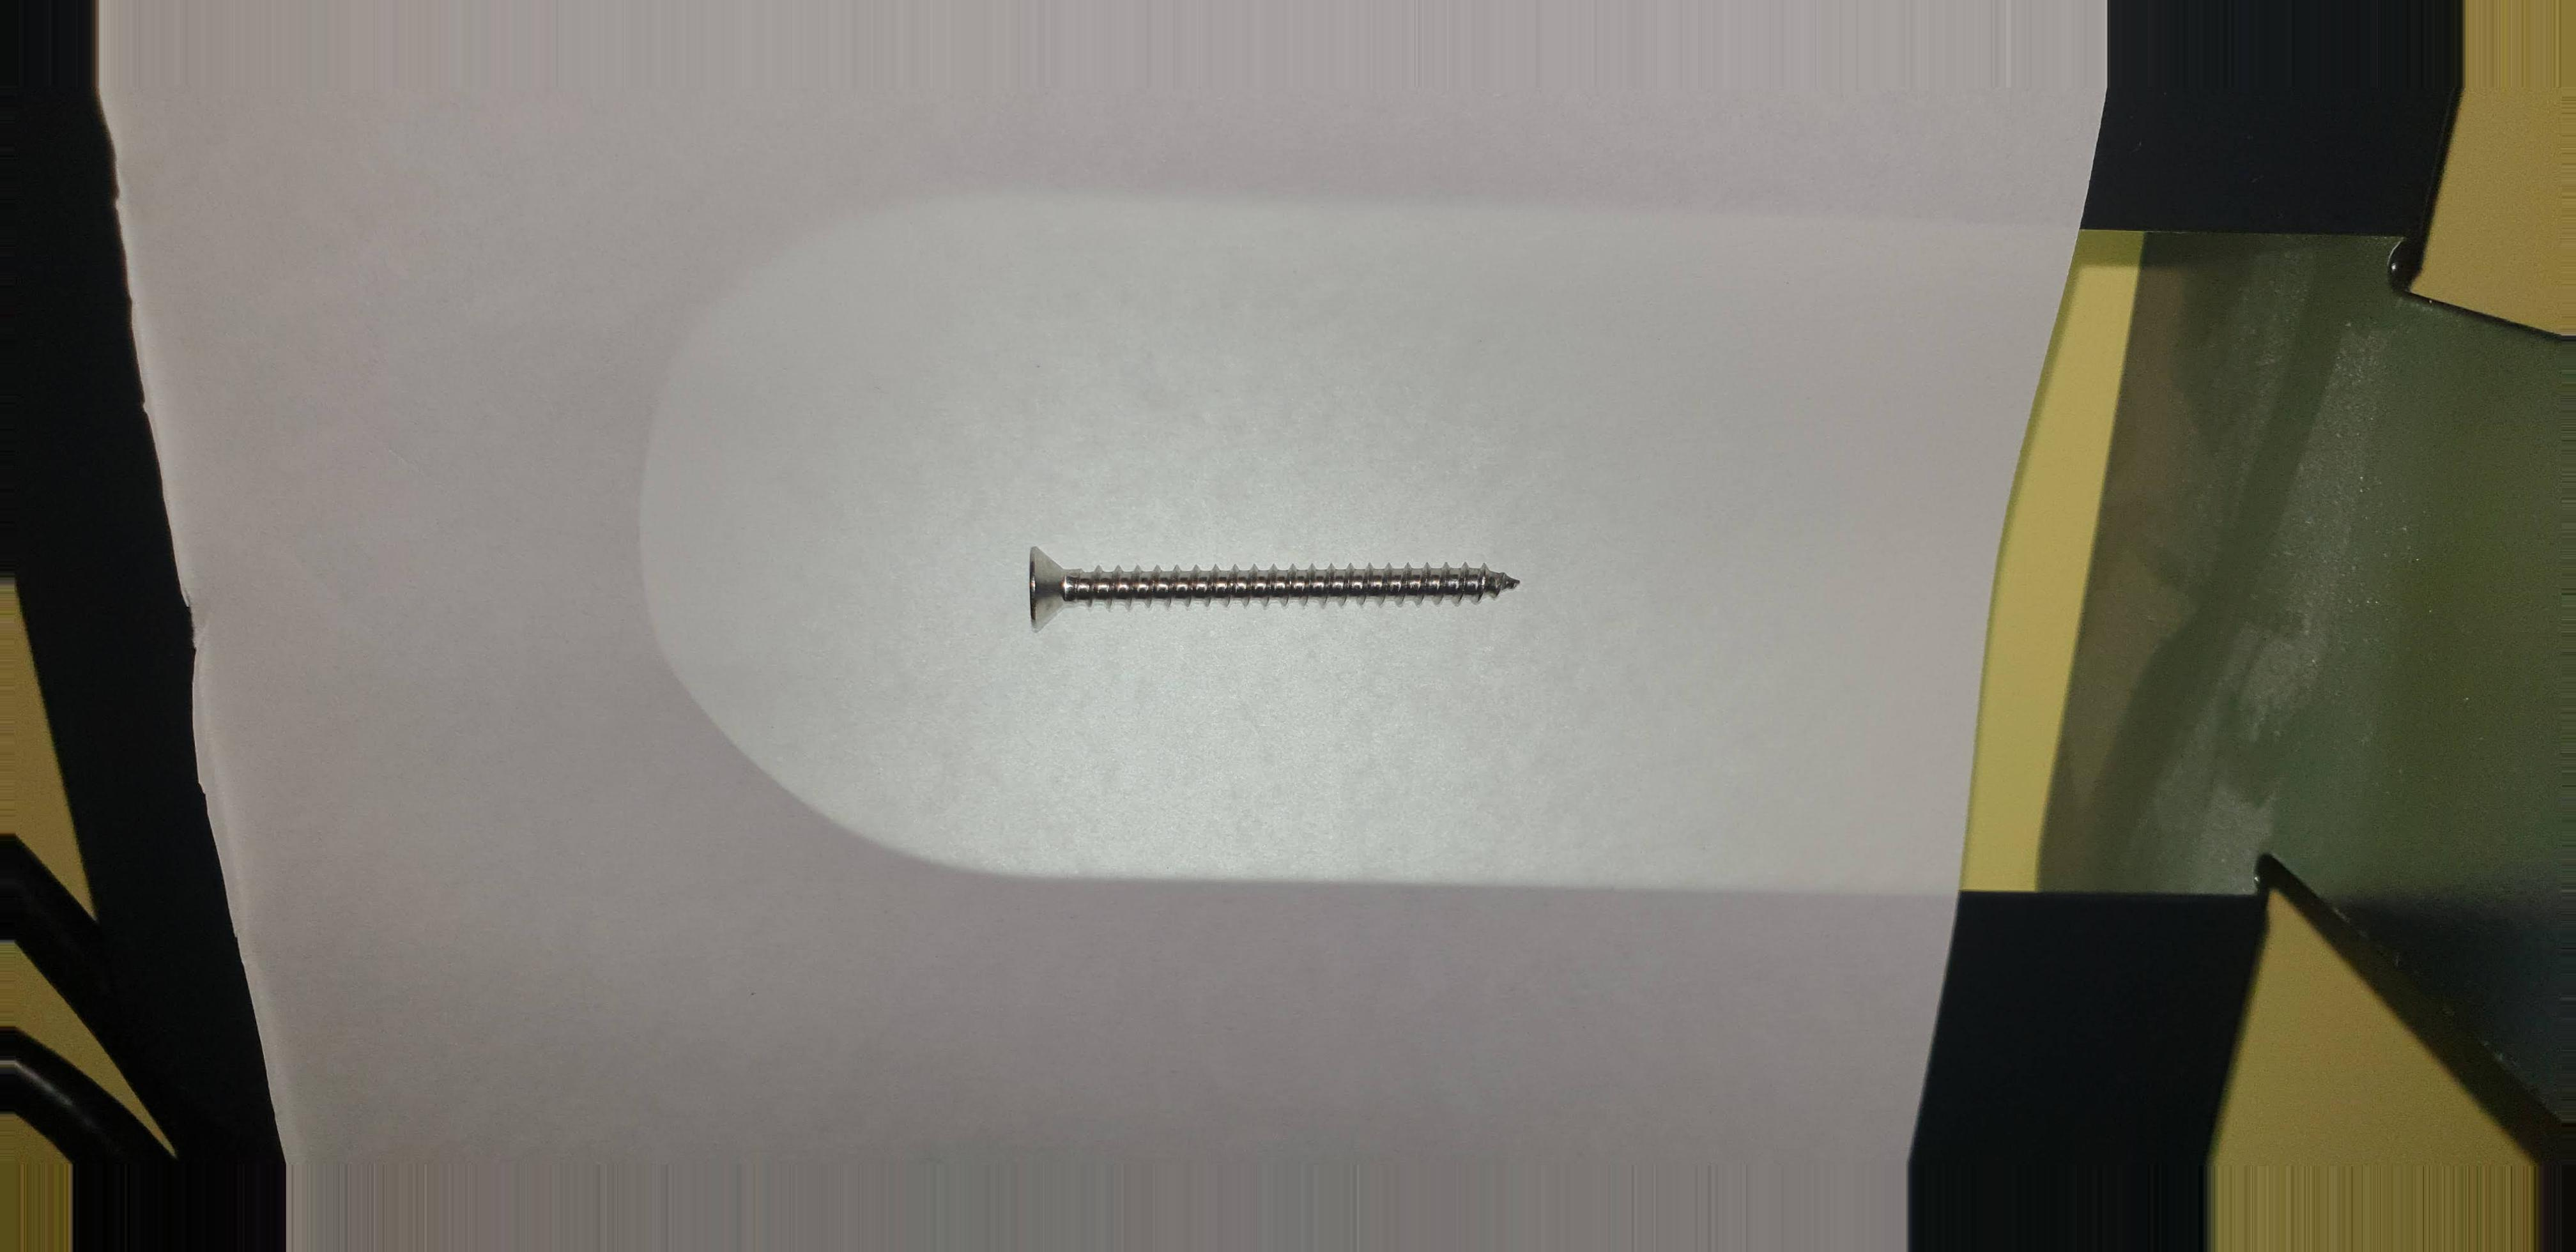fastener: (959, 511, 1607, 662)
